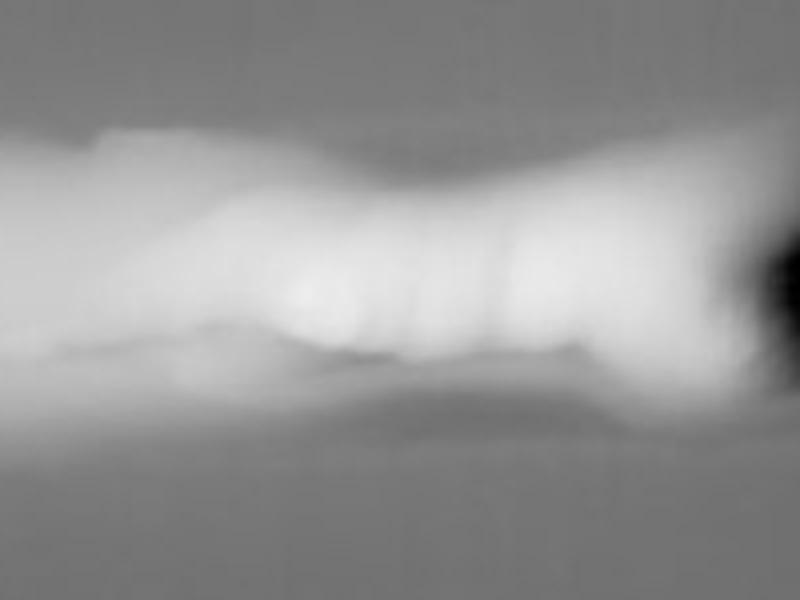defect: (770, 223, 798, 380)
